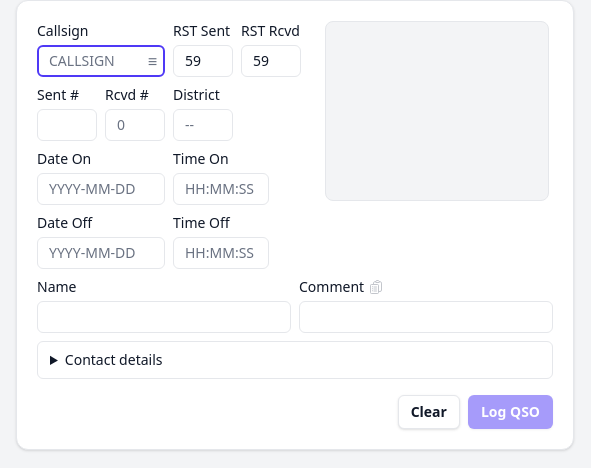
Scenario: LoggingCard: contest exchange › shows the DUPE warning for a station already worked on this band in this contest
In the field labelled "Callsign": (101, 61) [37,45,165,77], type "7Q7EB"
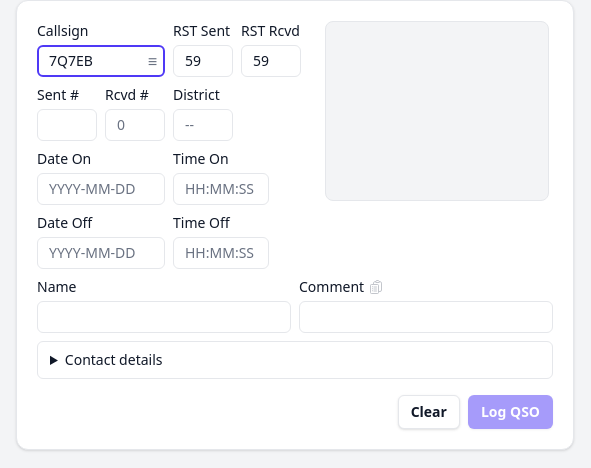
Press Tab in the field labelled "Callsign", box [37,45,165,77]
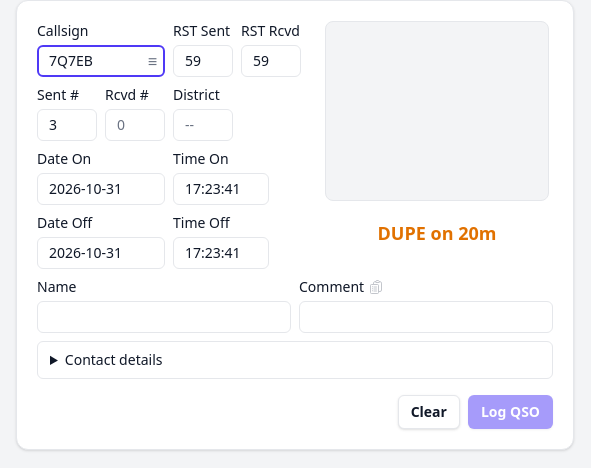
Now the message with test id "contest-dupe" reads "DUPE on 20m", box [378,221,496,245]
